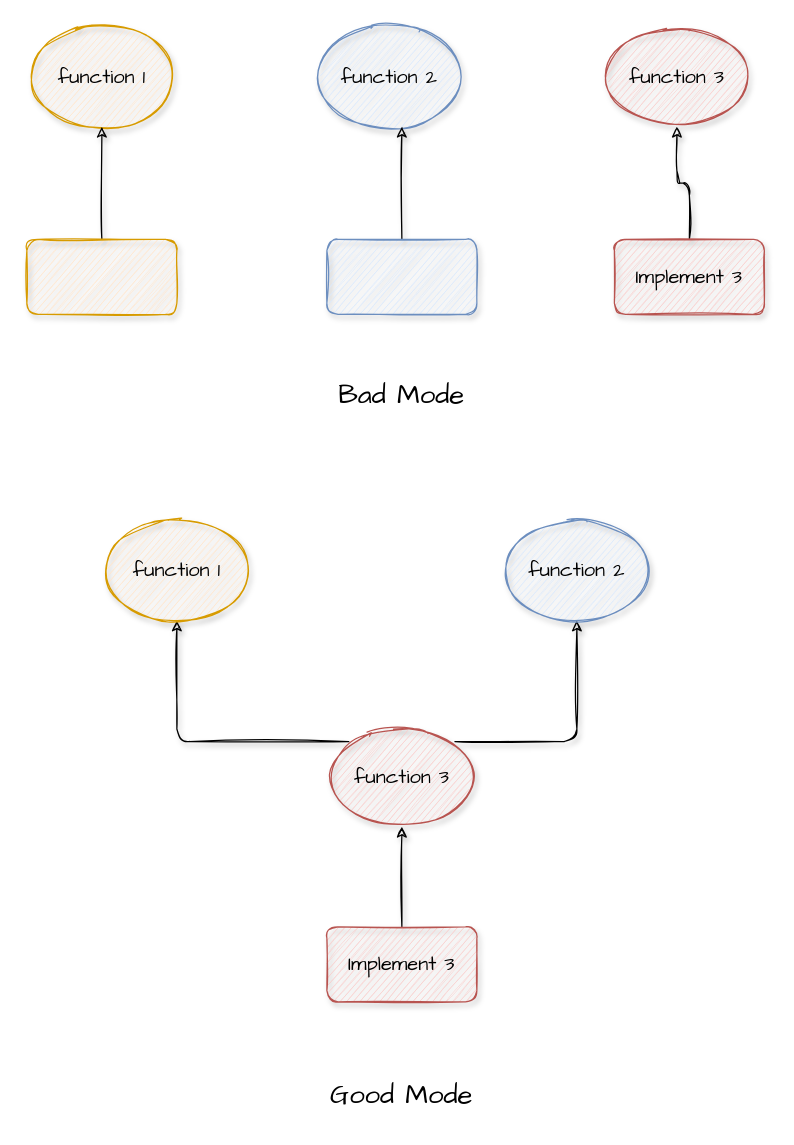
This 794x1145 diagram has some shape labels left out. Here are the shapes that lost their labels. From the top down, the centre of each, then its label:
At [102,278]: "Implement 1".
At [402,278]: "Implement 2".
